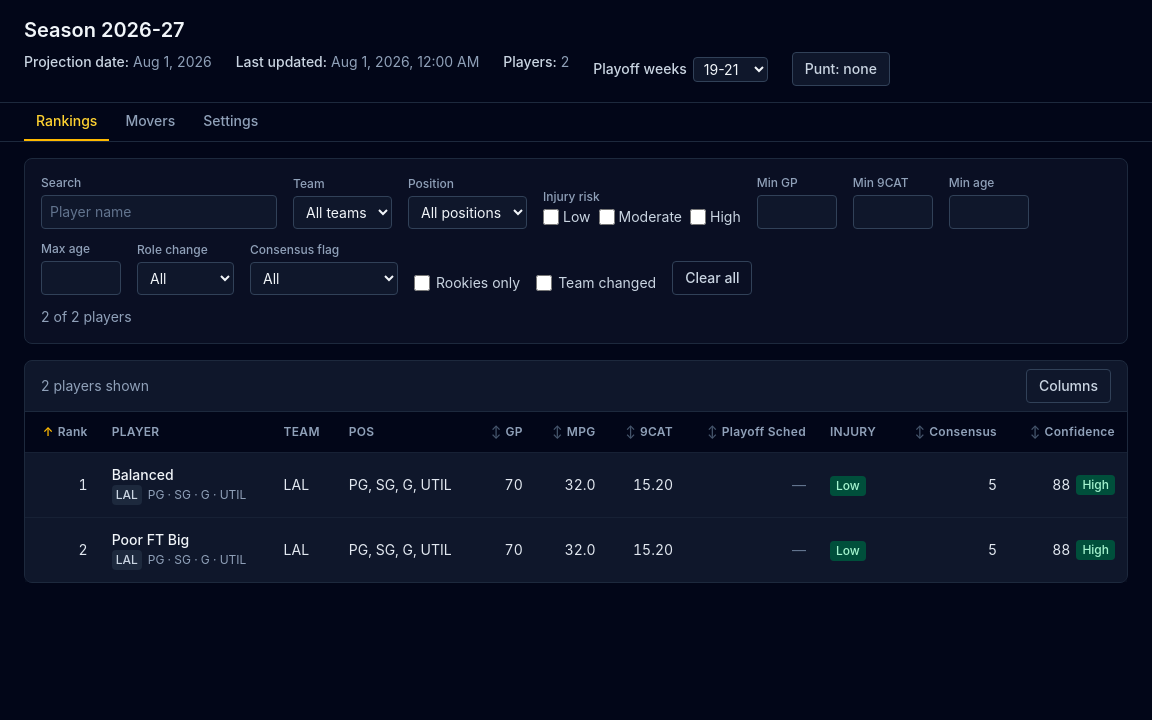
App › punt build › checking multiple categories composes -- a 3-punt case re-ranks exactly as hand math predicts
Check: the text "Balanced" is shown, box [112,466,174,483]
Click the button "Punt: none": [841, 69] box [792,52,890,86]
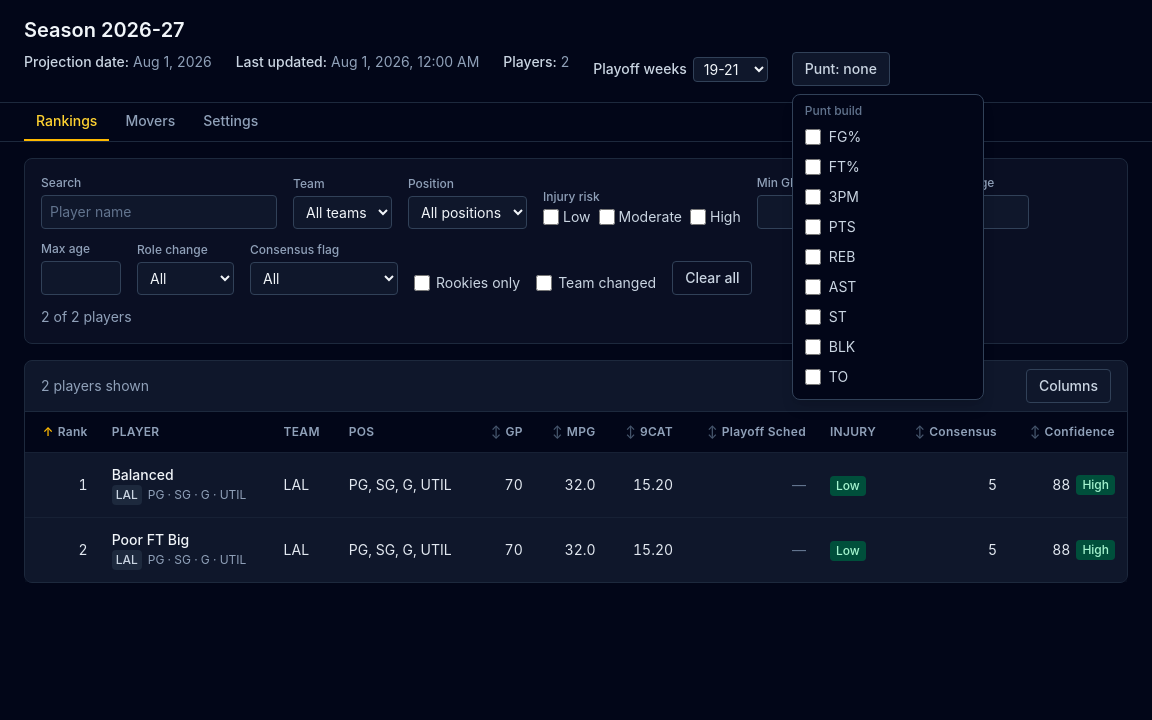
Click the checkbox labelled "FT%": [813, 167] box [805,159,821,175]
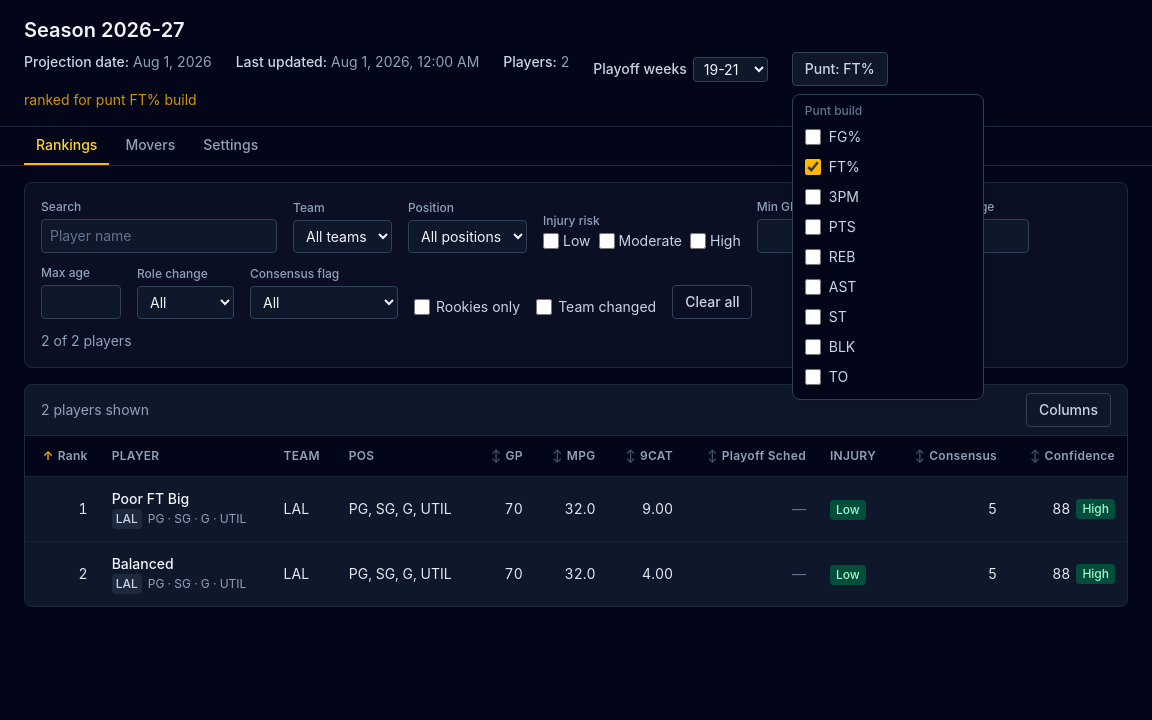
Click the checkbox labelled "AST": [813, 287] box [805,279,821,295]
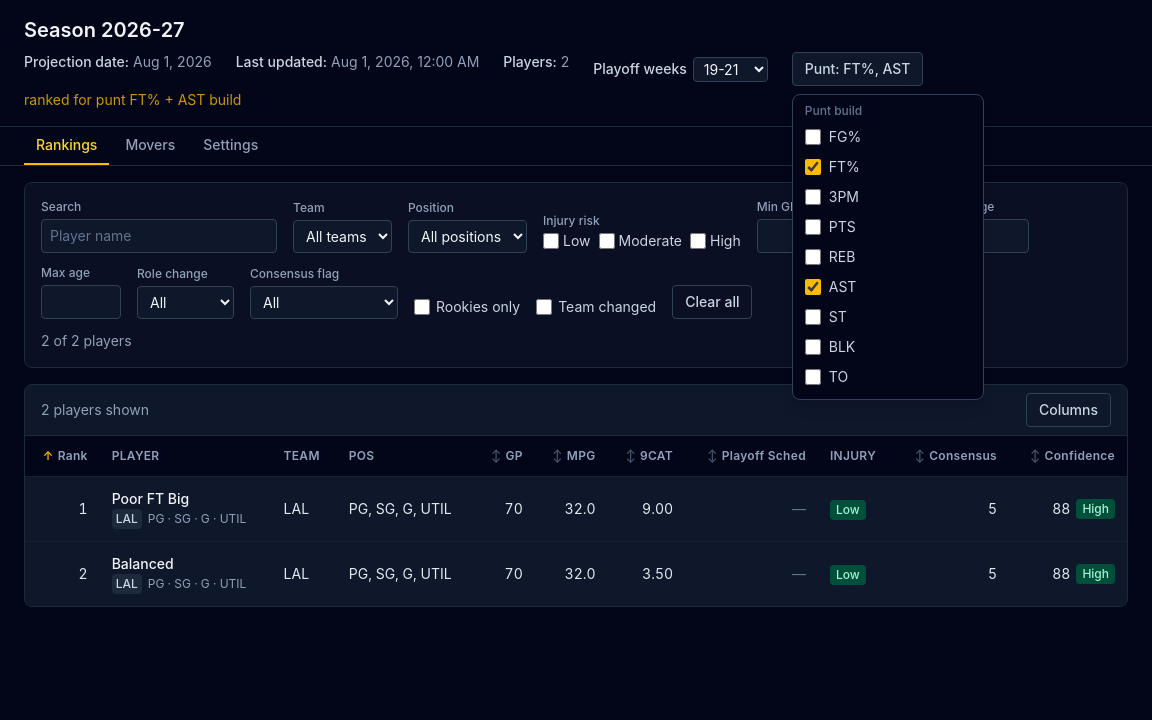
Click the checkbox labelled "ST": [813, 317] box [805,309,821,325]
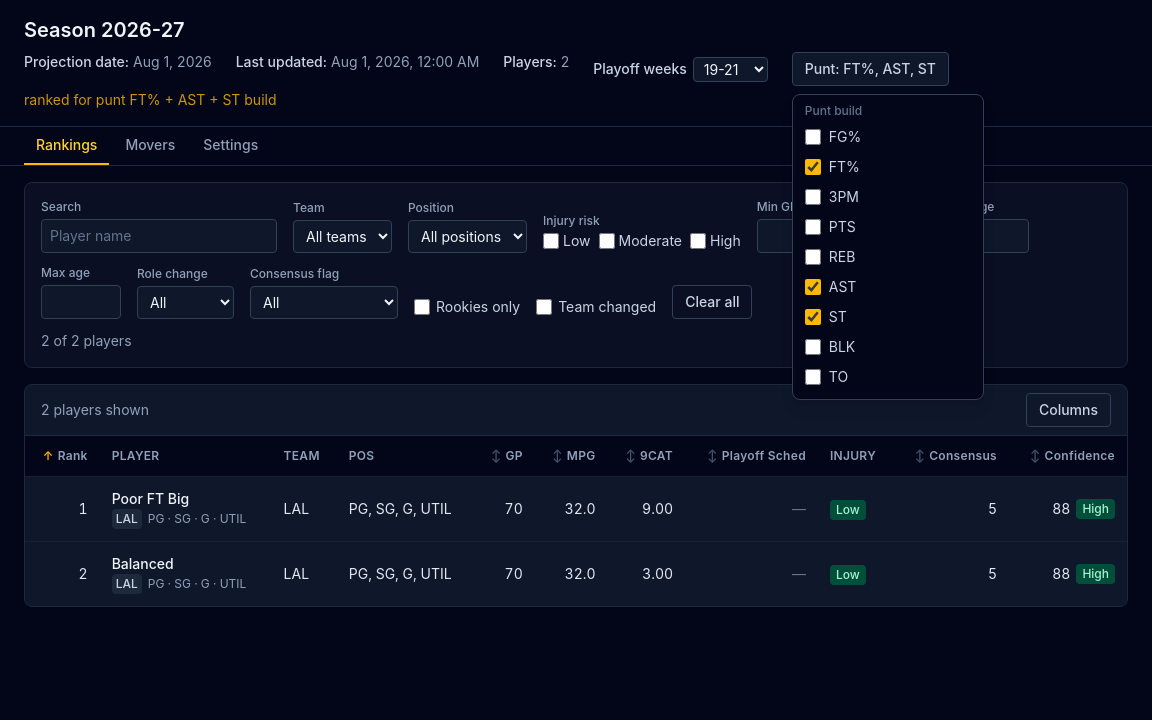
Check: the text "Poor FT Big" is shown, box [112,490,189,507]
Check: the text "ranked for punt FT% + AST + ST build" is shown, box [24,91,276,108]
